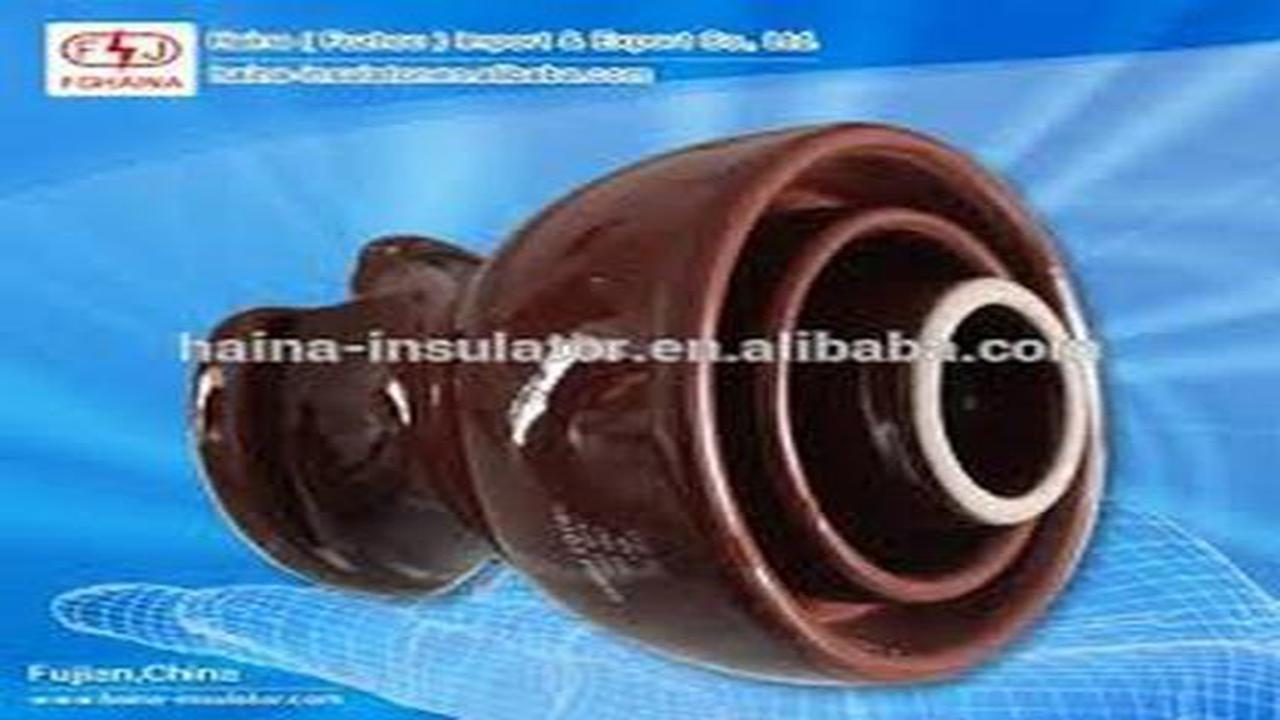insulator_pin: (182, 97, 1136, 707)
